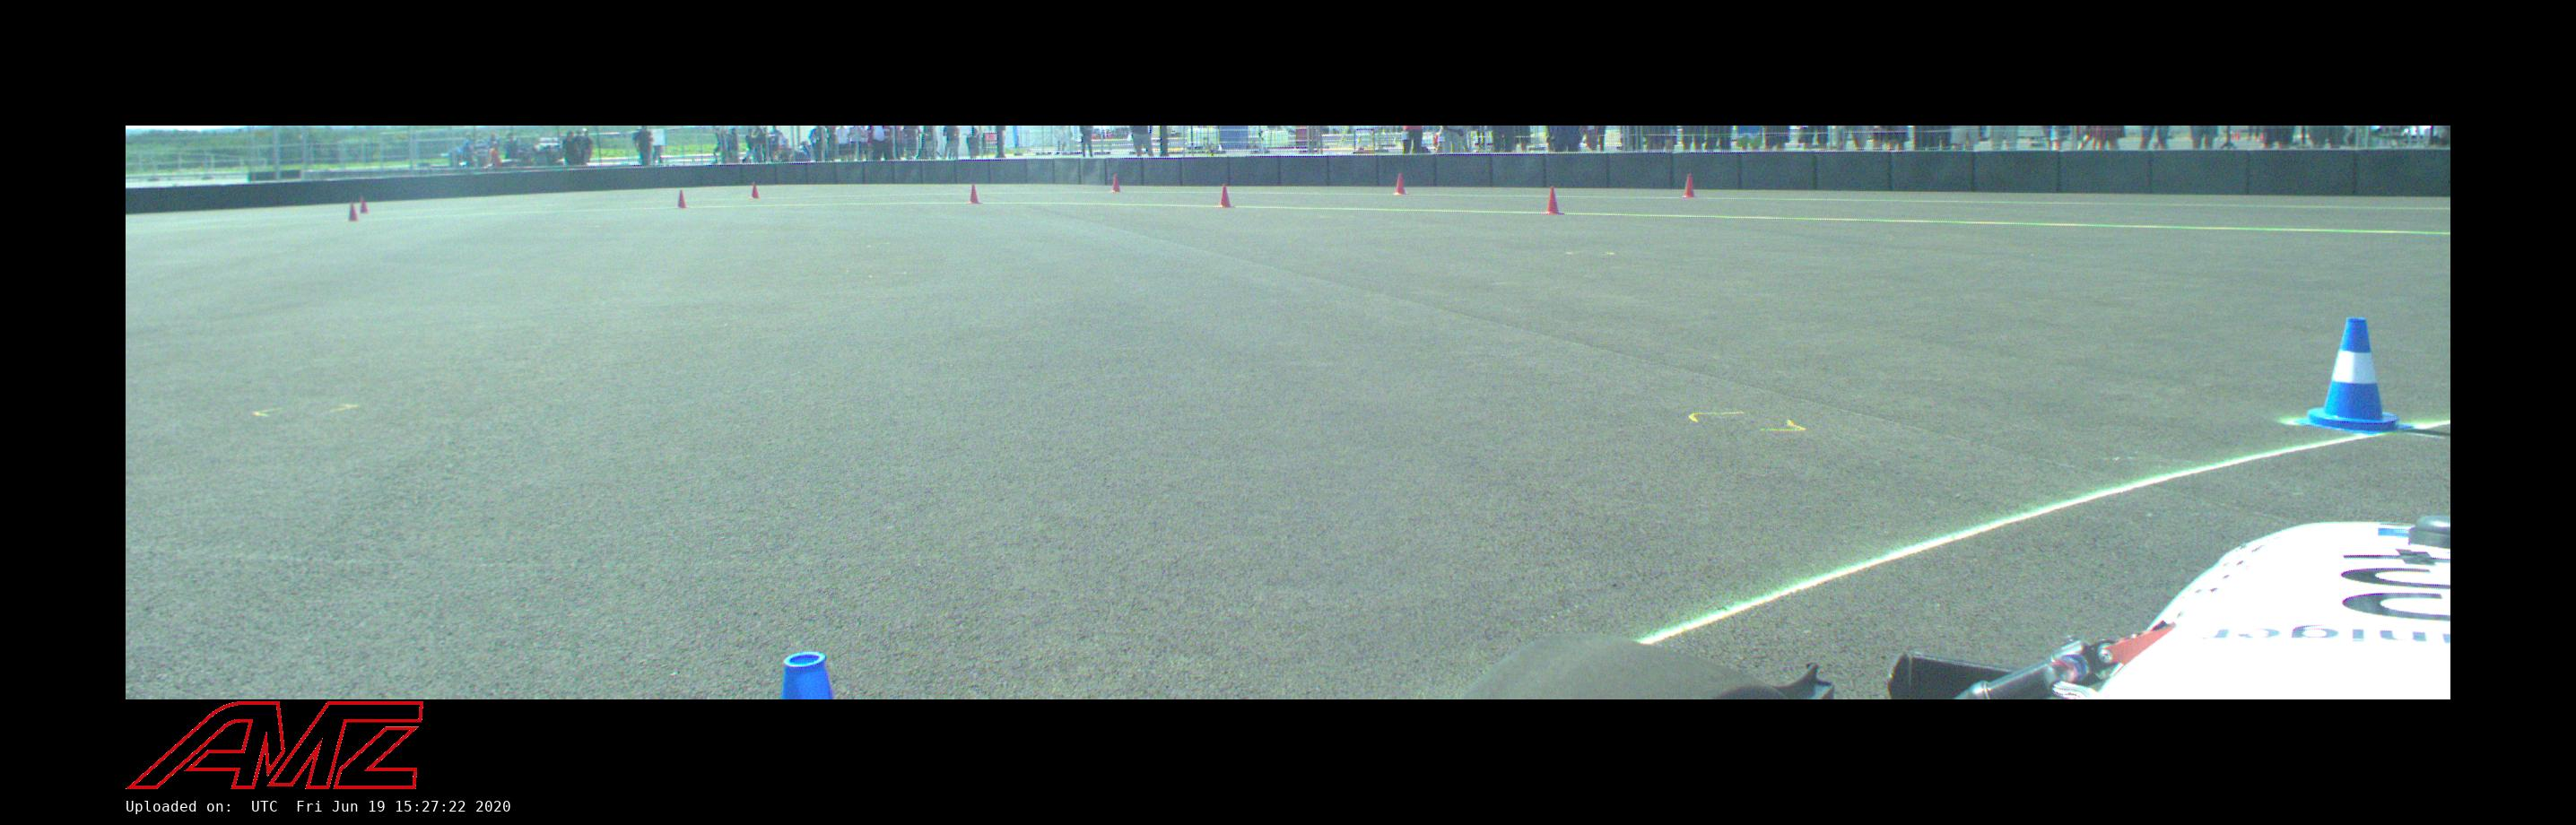blue_cone: (2293, 317, 2415, 436), (775, 652, 836, 698)
